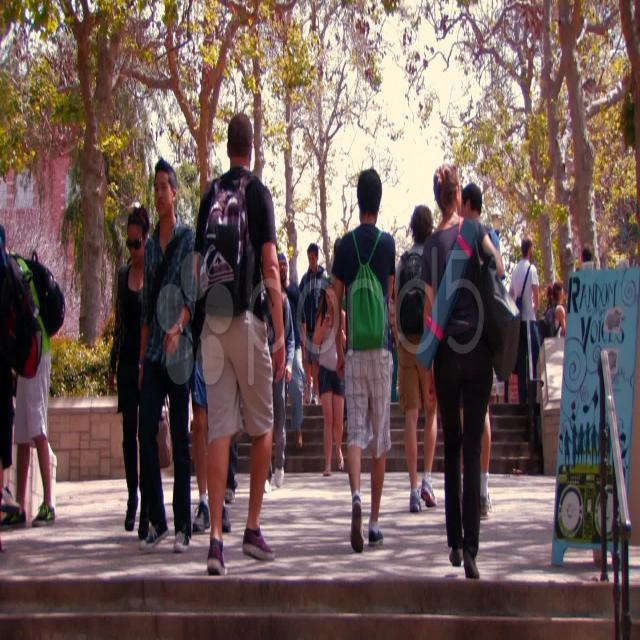body: (413, 158, 523, 582), (190, 109, 288, 580), (327, 165, 397, 556), (134, 156, 200, 556), (108, 204, 172, 541), (0, 223, 66, 531), (458, 182, 506, 521), (0, 222, 46, 559), (394, 203, 438, 516), (187, 309, 240, 538), (262, 251, 306, 451), (502, 234, 548, 410), (310, 276, 348, 478), (268, 291, 297, 495), (297, 241, 329, 407), (559, 420, 627, 471), (386, 259, 400, 405), (552, 280, 566, 338), (572, 242, 594, 272), (542, 284, 553, 316), (331, 232, 343, 261)
